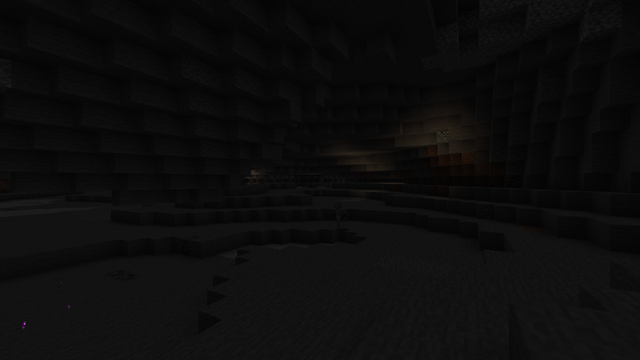squelettes: (333, 201, 343, 228)
